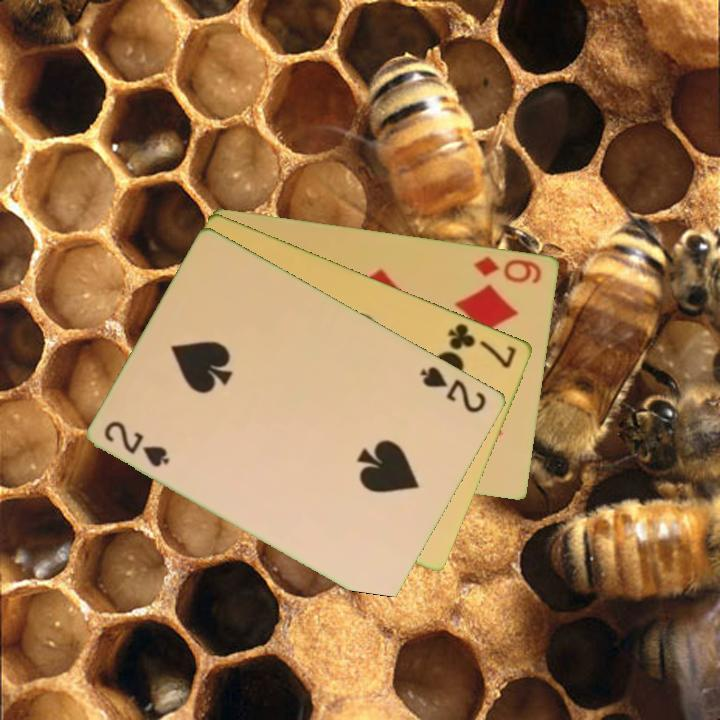2s: (417, 362, 490, 416), (101, 416, 174, 470)
6d: (471, 252, 545, 286)
7c: (444, 319, 520, 371)
